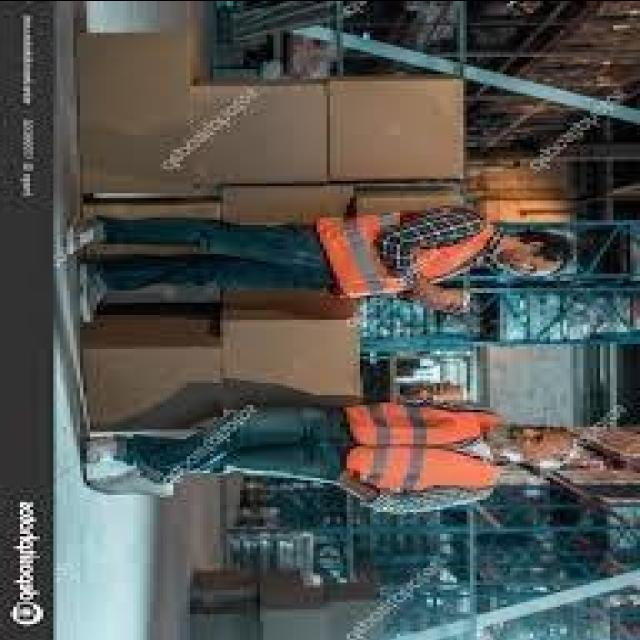jacket: (340, 398, 512, 502), (324, 209, 498, 299)
